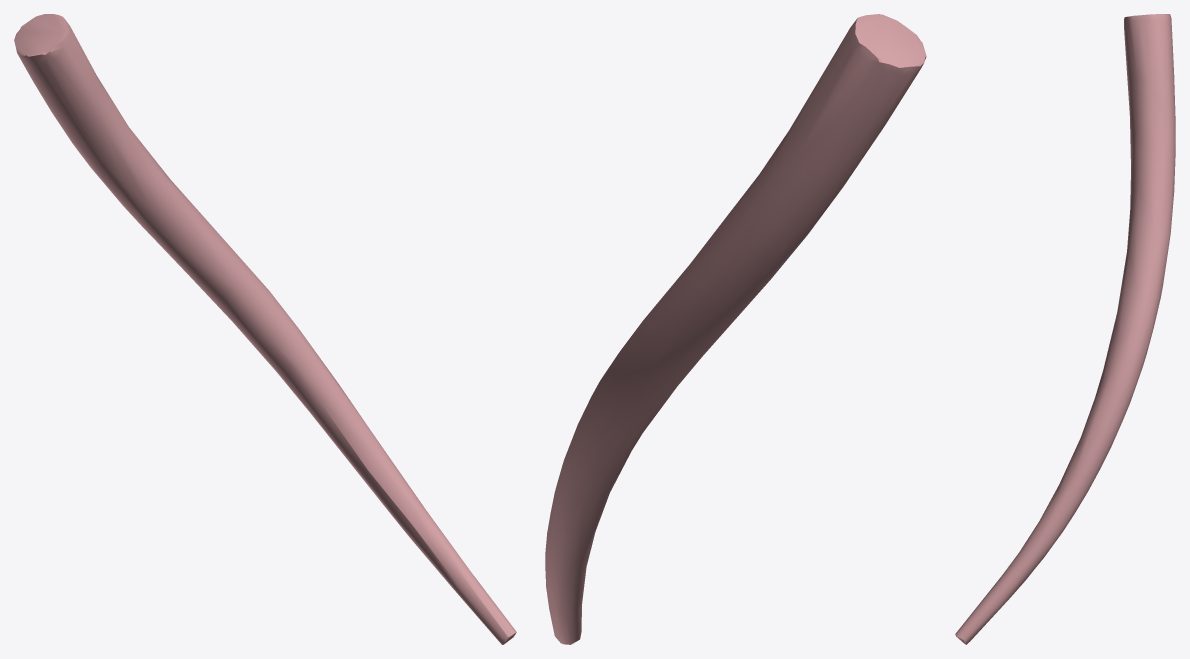
Rendered from fma68232_fj2445.glb.
The picture shows the model from 3 angles, left to right: view 1: azimuth 30°, elevation 25°; view 2: azimuth 150°, elevation 25°; view 3: azimuth 270°, elevation 25°; orthographic projection. The views are drawn at different scales.
Parts seen in each view (by area): view 1: FMA68232_FJ2445; view 2: FMA68232_FJ2445; view 3: FMA68232_FJ2445.
Boxes of the visible parts, box(x1,y1,x2,y2) form: FMA68232_FJ2445: box(14, 14, 516, 644); FMA68232_FJ2445: box(545, 14, 926, 644); FMA68232_FJ2445: box(955, 14, 1175, 644).
Bounding box in the file's own units: 0.0546 × 0.0851 × 0.034.
